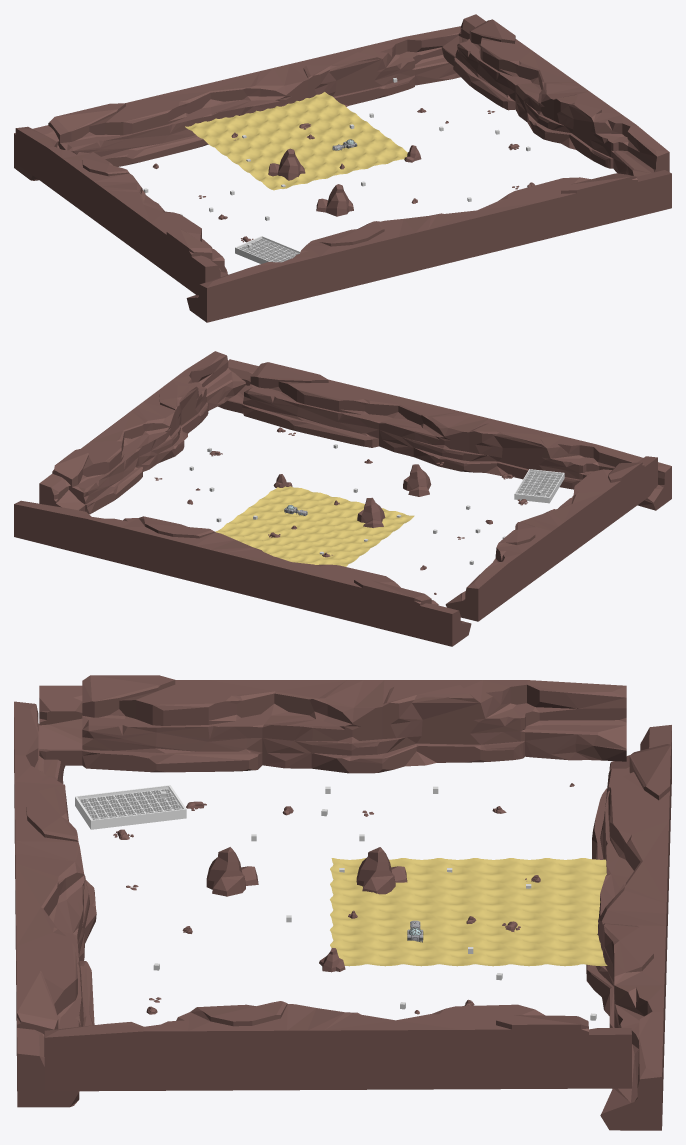
The model's file is FirstLevel.glb.
3 views of the same model, one above another, from view 1: azimuth 30°, elevation 25°; view 2: azimuth 150°, elevation 25°; view 3: azimuth 270°, elevation 25° (orthographic). The views are drawn at different scales.
Visible parts, largest first — view 1: Cliff_Cube.003, Cliff_Cube.002, Cliff_Cube.001, Cliff_Cube.021, Plane, Object_4, stone_7.005, Object_2, Object_3, stone_7.002; view 2: Cliff_Cube.002, Cliff_Cube.003, Cliff_Cube.001, Cliff_Cube.021, Plane, Object_4, Object_3, Object_2, stone_7.005, stone_7.002; view 3: Cliff_Cube.021, Cliff_Cube.001, Plane, Cliff_Cube.002, Cliff_Cube.003, Object_3, Object_4, Object_2, stone_7.005, stone_7.002.
Boxes of the visible parts, left/top/right/bottom form: Cliff_Cube.003: left=186, top=170, right=671, bottom=322; Cliff_Cube.002: left=14, top=26, right=460, bottom=180; Cliff_Cube.001: left=442, top=14, right=669, bottom=176; Cliff_Cube.021: left=15, top=126, right=228, bottom=295; Plane: left=185, top=92, right=407, bottom=190; Object_4: left=239, top=237, right=299, bottom=261; stone_7.005: left=316, top=184, right=353, bottom=216; Object_2: left=239, top=239, right=298, bottom=262; Object_3: left=235, top=236, right=300, bottom=263; stone_7.002: left=268, top=148, right=305, bottom=180; Cliff_Cube.002: left=14, top=500, right=471, bottom=646; Cliff_Cube.003: left=218, top=359, right=671, bottom=510; Cliff_Cube.001: left=39, top=351, right=245, bottom=514; Cliff_Cube.021: left=445, top=456, right=657, bottom=621; Plane: left=215, top=486, right=414, bottom=566; Object_4: left=516, top=470, right=562, bottom=496; Object_3: left=514, top=469, right=564, bottom=503; Object_2: left=517, top=472, right=561, bottom=496; stone_7.005: left=403, top=464, right=431, bottom=496; stone_7.002: left=357, top=497, right=385, bottom=527; Cliff_Cube.021: left=39, top=675, right=626, bottom=773; Cliff_Cube.001: left=44, top=1001, right=631, bottom=1091; Plane: left=330, top=858, right=607, bottom=966; Cliff_Cube.002: left=586, top=725, right=671, bottom=1130; Cliff_Cube.003: left=14, top=701, right=96, bottom=1107; Object_3: left=75, top=785, right=186, bottom=829; Object_4: left=79, top=787, right=182, bottom=819; Object_2: left=80, top=789, right=181, bottom=819; stone_7.005: left=206, top=847, right=258, bottom=896; stone_7.002: left=356, top=847, right=407, bottom=894.
Size of what is drawn, in the model's own units: 329 by 39.04 by 249.
